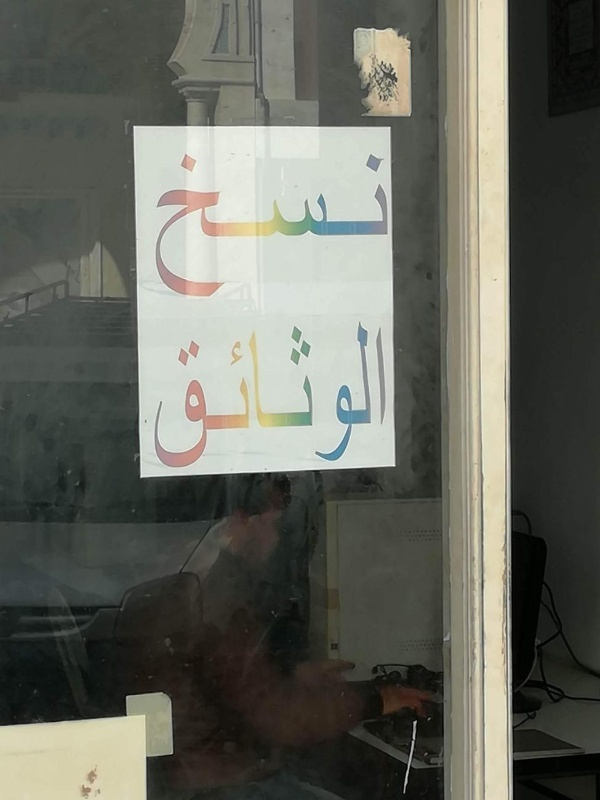text: (161, 319, 176, 471), (177, 319, 192, 471), (193, 319, 208, 471), (209, 319, 224, 471), (225, 319, 240, 471), (241, 319, 256, 471), (257, 319, 272, 471), (273, 319, 288, 471), (289, 319, 304, 471), (305, 319, 320, 471), (321, 319, 336, 471), (337, 319, 352, 471), (353, 319, 368, 471), (369, 319, 384, 471), (161, 151, 176, 300), (177, 151, 192, 300), (193, 151, 208, 300), (209, 151, 224, 300), (225, 151, 240, 300), (241, 151, 256, 300), (257, 151, 272, 300), (273, 151, 288, 300), (289, 151, 304, 300), (305, 151, 320, 300), (321, 151, 336, 300), (337, 151, 352, 300), (353, 151, 368, 300), (369, 151, 384, 300), (152, 319, 160, 471), (154, 151, 160, 300), (385, 151, 391, 300), (385, 319, 389, 471)
